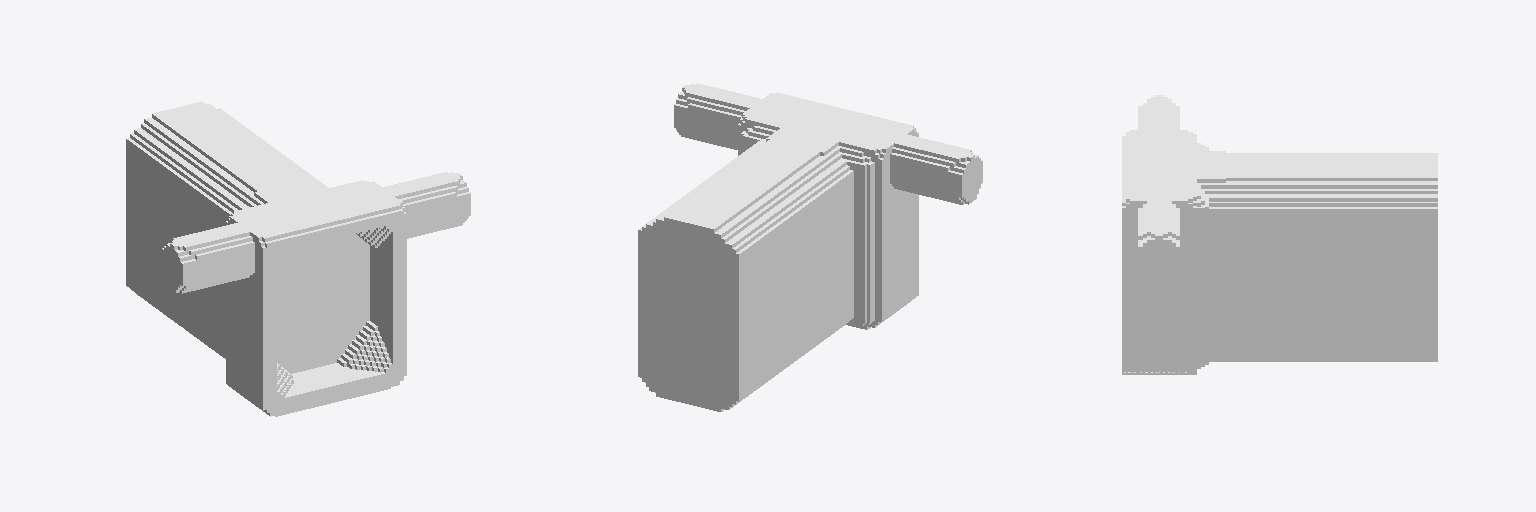
Rendered from JokerWarriror-7.obj.
3 renders of one model, left to right at view 1: azimuth 30°, elevation 25°; view 2: azimuth 150°, elevation 25°; view 3: azimuth 270°, elevation 25°, orthographic.
Visible parts, largest first — view 1: object 1; view 2: object 1; view 3: object 1.
Boxes of the visible parts, box(x1,y1,x2,y2) form: object 1: box(126, 101, 470, 416); object 1: box(638, 83, 982, 411); object 1: box(1122, 95, 1437, 374).
Size of the model in its own units: 8 by 4.8 by 7.6.